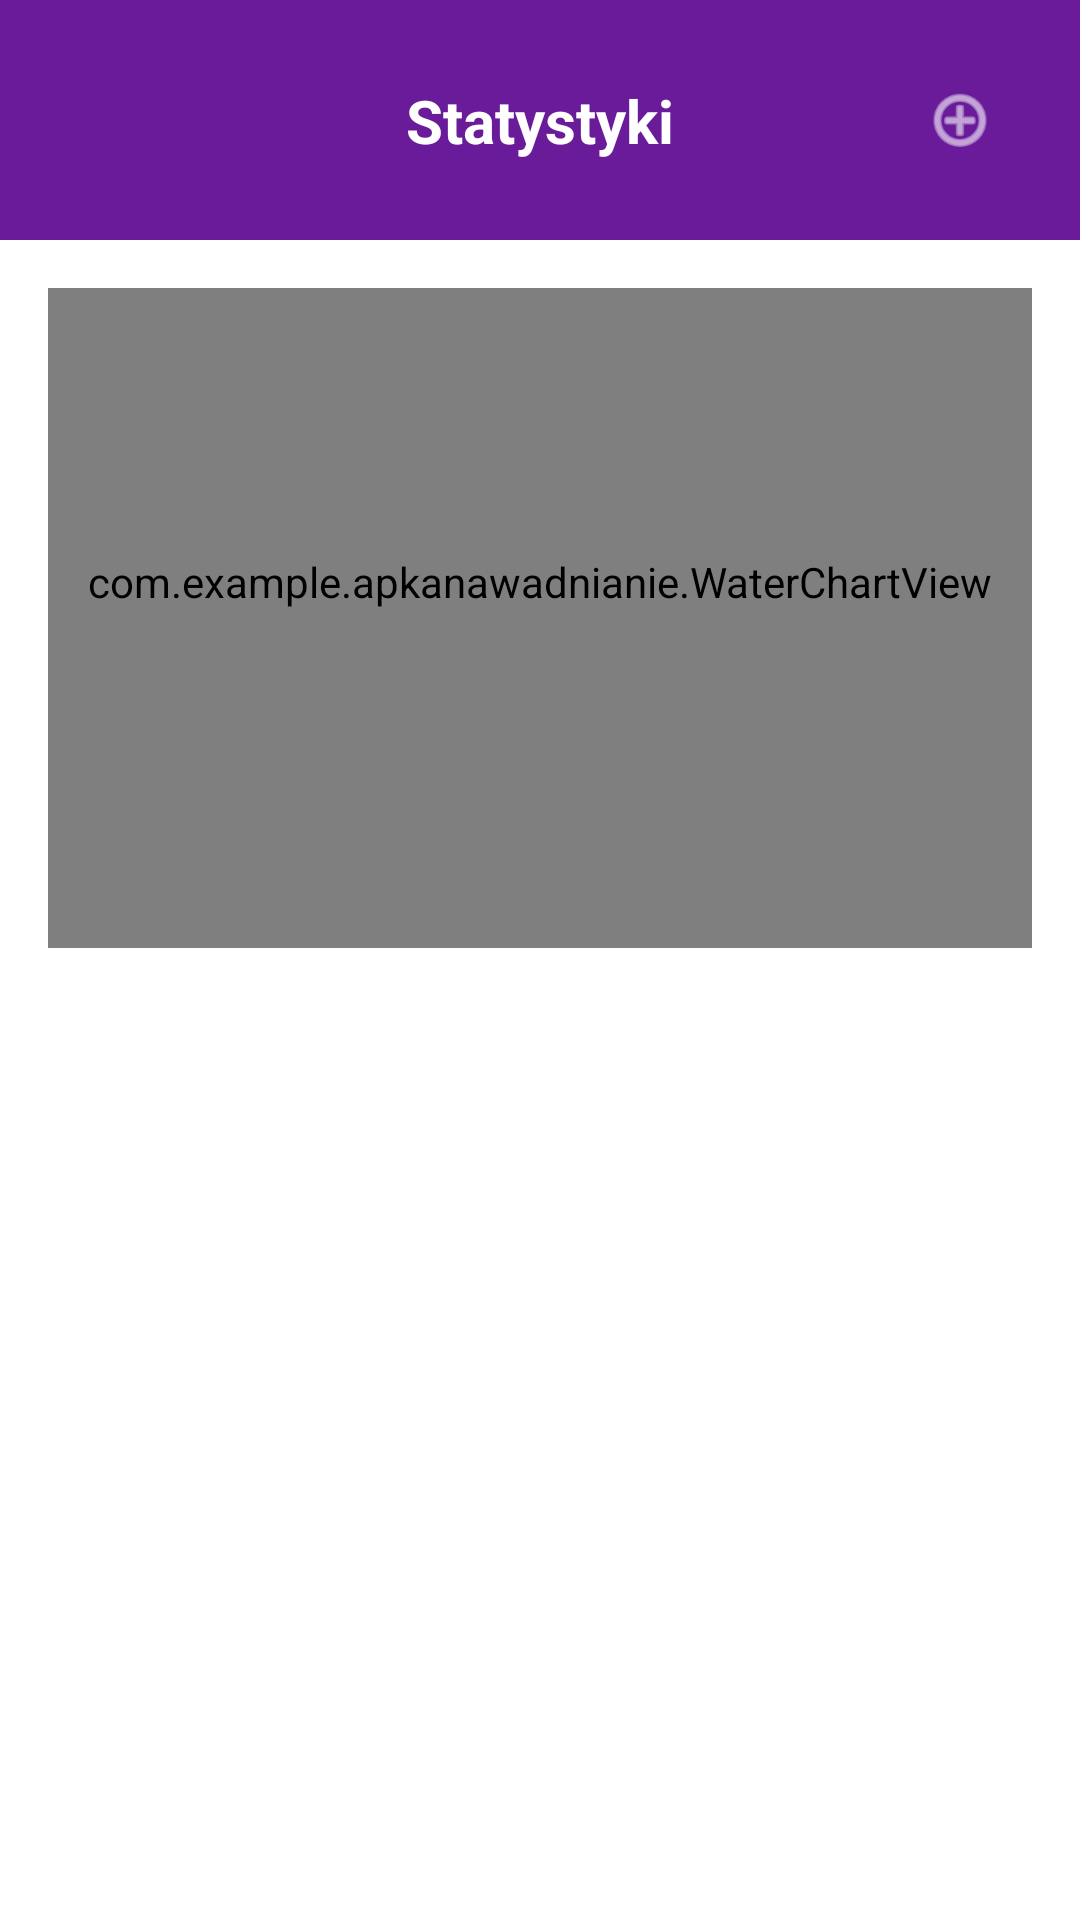

Where icons sit on this 1080px x 1920px app screen, as BBox(x1, y1, x2, y2):
Add statistic: BBox(933, 94, 987, 147)
